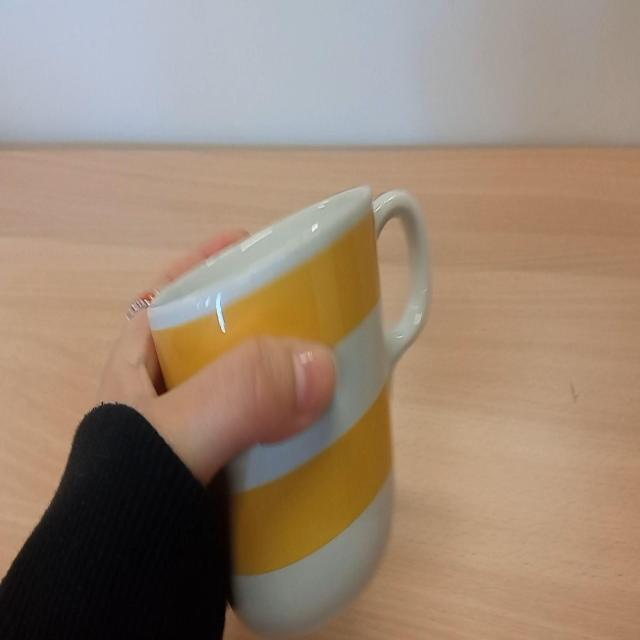cup: (143, 176, 439, 640)
